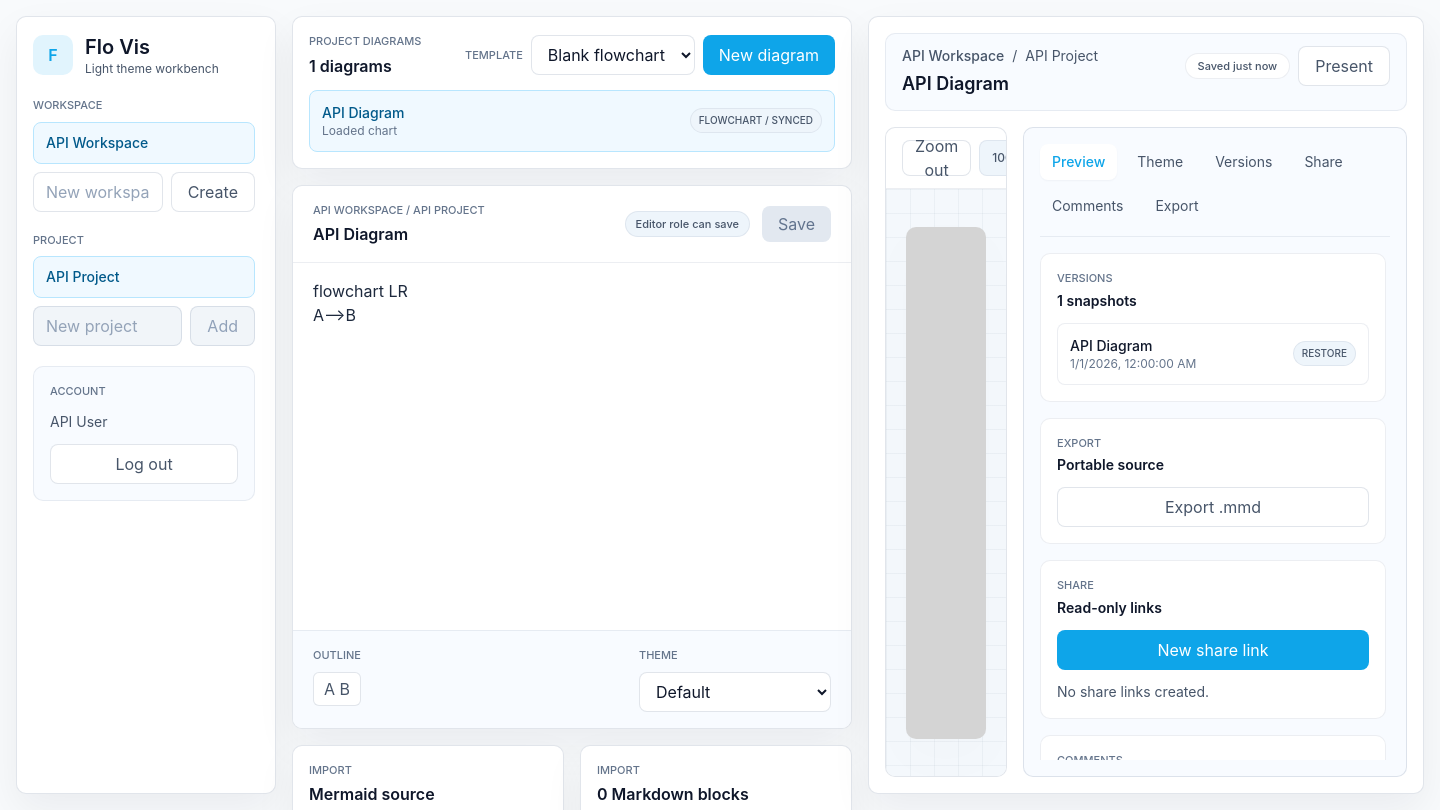
WorkspaceProjectShell › loads versions and restores a selected API version
expect the button "API Diagram Loaded chart flowchart / Synced" is shown: met, box 309,90 -> 835,152
Step 1. Click the button with aria-label "Restore snapshot" → point(1111, 345), box 1057,322 -> 1369,384
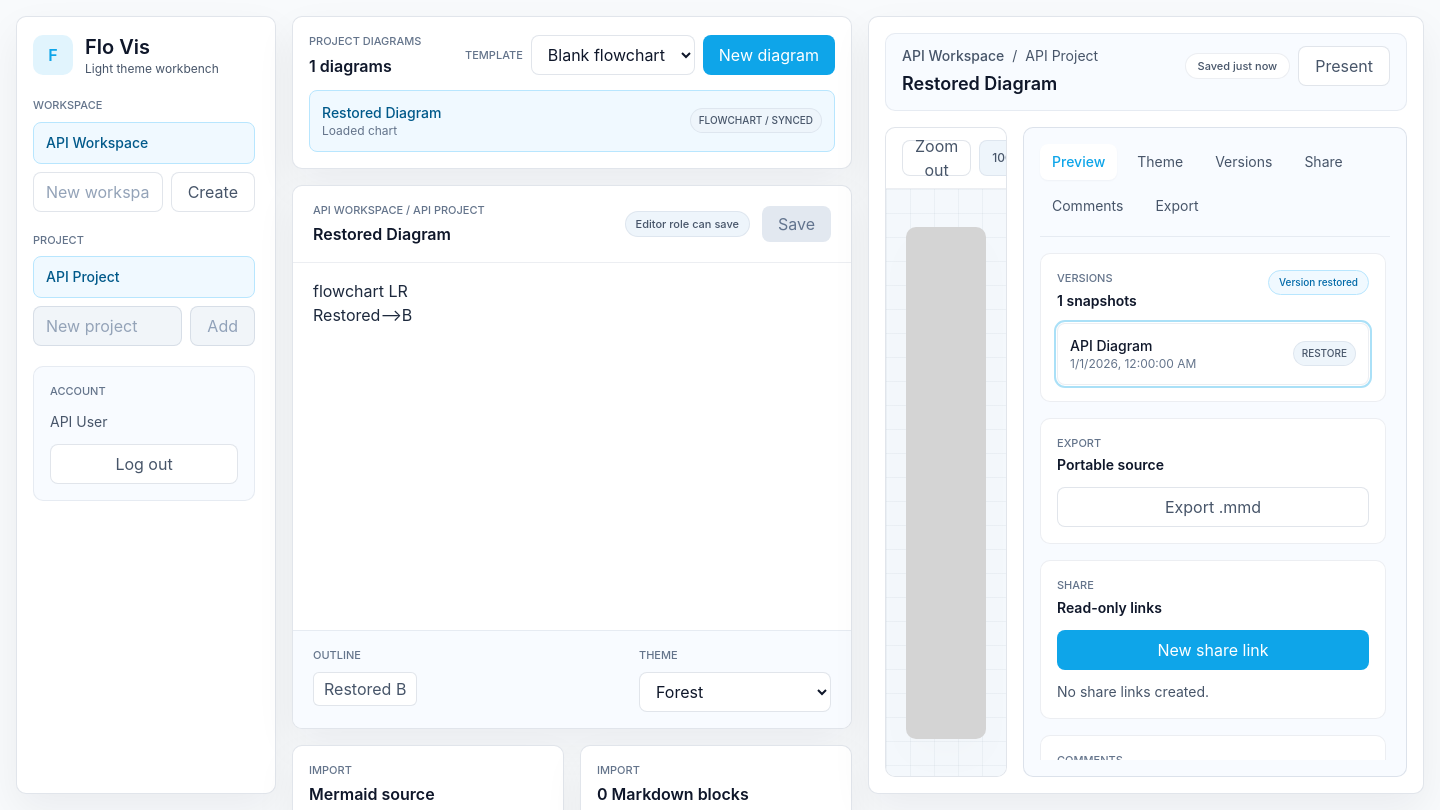
expect the text "Version restored" is shown: met, box 1268,270 -> 1369,295
